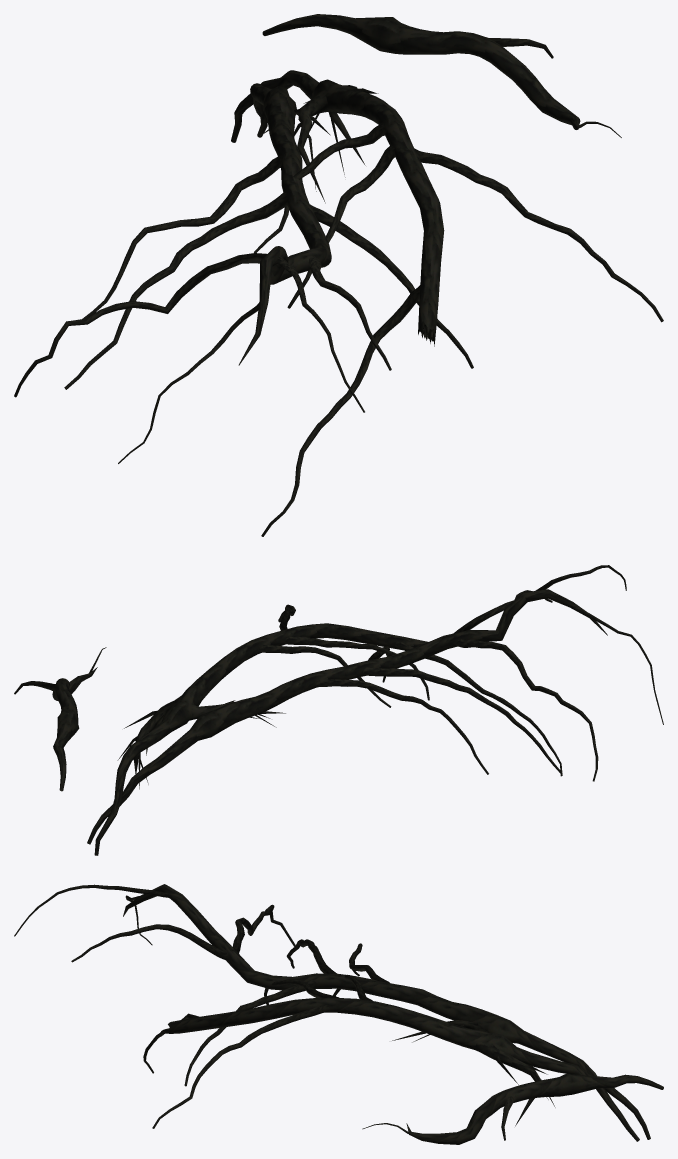
The picture shows the model from 3 angles, top to bottom: view 1: azimuth 30°, elevation 25°; view 2: azimuth 150°, elevation 25°; view 3: azimuth 270°, elevation 25°; orthographic projection. The views are drawn at different scales.
Parts seen in each view (by area): view 1: SM_BM_Roots_02_LOD0; view 2: SM_BM_Roots_02_LOD0; view 3: SM_BM_Roots_02_LOD0.
Boxes of the visible parts, x1,y1,x2,y2 form: SM_BM_Roots_02_LOD0: (14,14,663,536); SM_BM_Roots_02_LOD0: (14,565,663,855); SM_BM_Roots_02_LOD0: (14,884,663,1144).
Size of the model in its own units: 3.81 by 1.43 by 4.38.
Materials: 1 (1 with a texture image).
